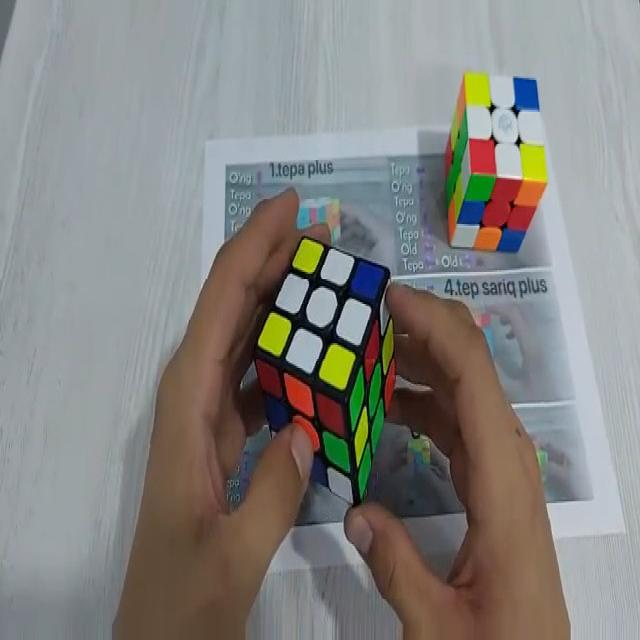Rub: (253, 231, 396, 506), (443, 70, 551, 253)
